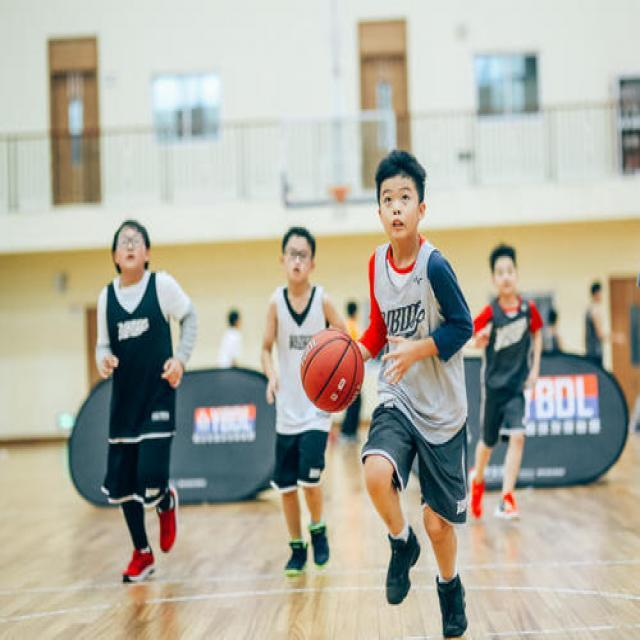rim: (300, 328, 364, 411)
